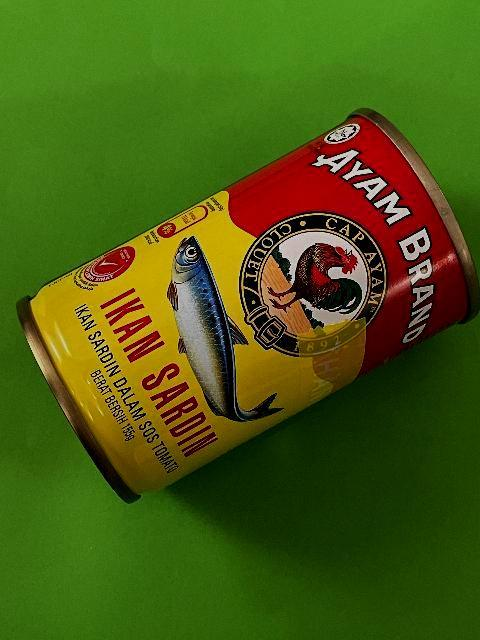foodcan: (16, 107, 480, 505)
